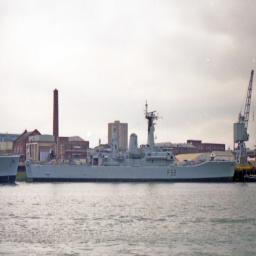Fragata: (28, 105, 239, 186)
